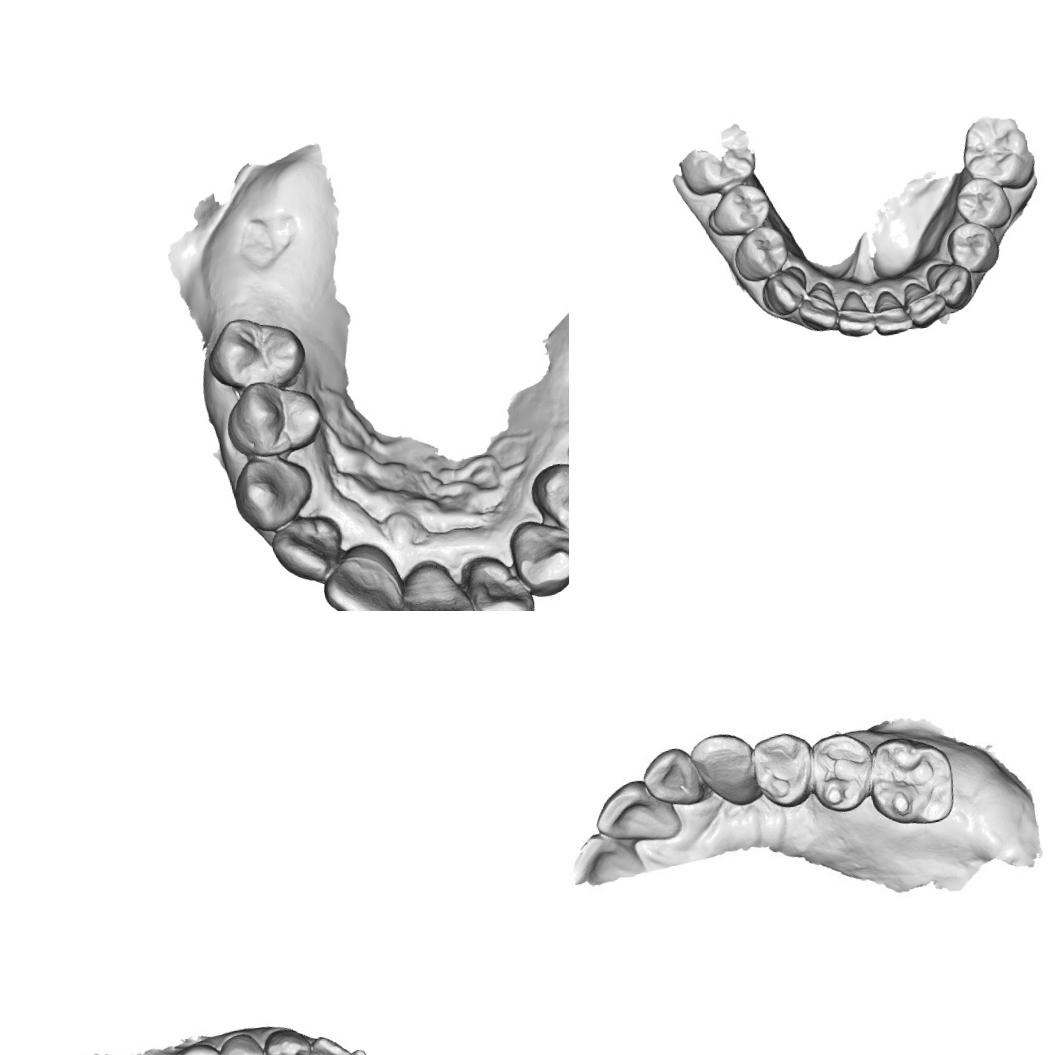canine: (230, 448, 316, 534), (692, 732, 767, 814), (508, 513, 569, 601), (758, 262, 812, 318), (924, 258, 976, 313), (260, 1024, 315, 1055)
incisor: (316, 545, 412, 611), (592, 778, 682, 848), (268, 512, 346, 592), (394, 553, 480, 611), (465, 547, 537, 611), (642, 748, 702, 810), (792, 278, 842, 336), (901, 278, 949, 331), (868, 286, 914, 337), (832, 288, 876, 340), (294, 1030, 356, 1055), (322, 1045, 378, 1055)
molar: (866, 734, 956, 826), (957, 111, 1038, 196), (807, 730, 875, 809)
premolar: (200, 308, 312, 396), (219, 373, 323, 461), (748, 730, 812, 810), (704, 180, 776, 240), (951, 172, 1016, 235), (729, 223, 792, 285), (528, 453, 569, 544), (942, 218, 1000, 276), (215, 1029, 270, 1055), (168, 1039, 229, 1055)
